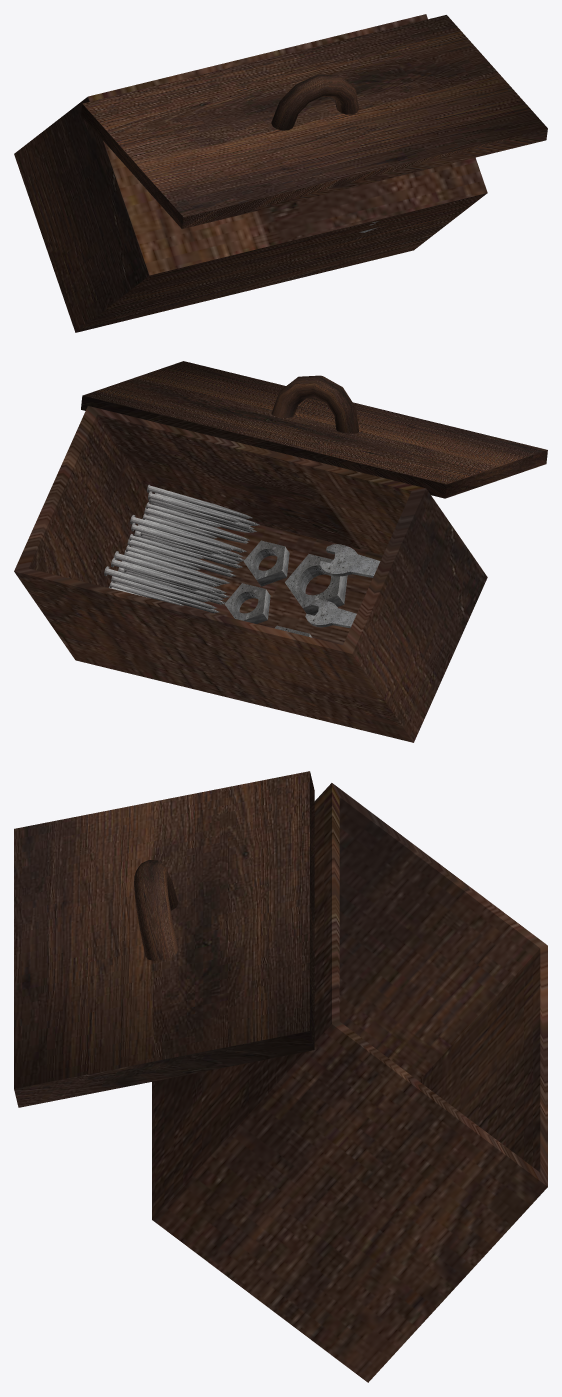
The picture shows the model from 3 angles, top to bottom: view 1: azimuth 30°, elevation 25°; view 2: azimuth 150°, elevation 25°; view 3: azimuth 270°, elevation 25°; orthographic projection. The views are drawn at different scales.
Visible parts, largest first — view 1: Cube.015; view 2: Cube.015; view 3: Cube.015.
Part boxes in pixels (x1,y1,x2,y2): Cube.015: (14, 14, 547, 332); Cube.015: (14, 361, 547, 742); Cube.015: (14, 771, 547, 1382).
Size of the model in its own units: 67.01 by 58.18 by 47.57.
2 materials, 2 textured.
